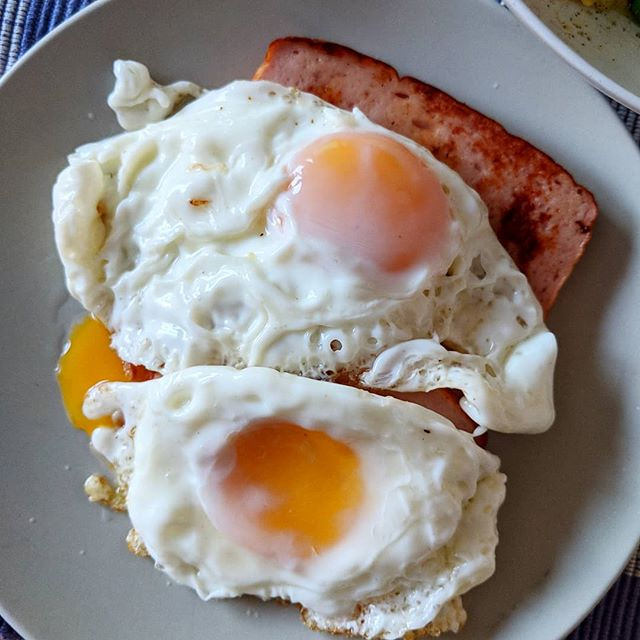fried egg: (37, 95, 542, 361), (142, 384, 492, 601)
